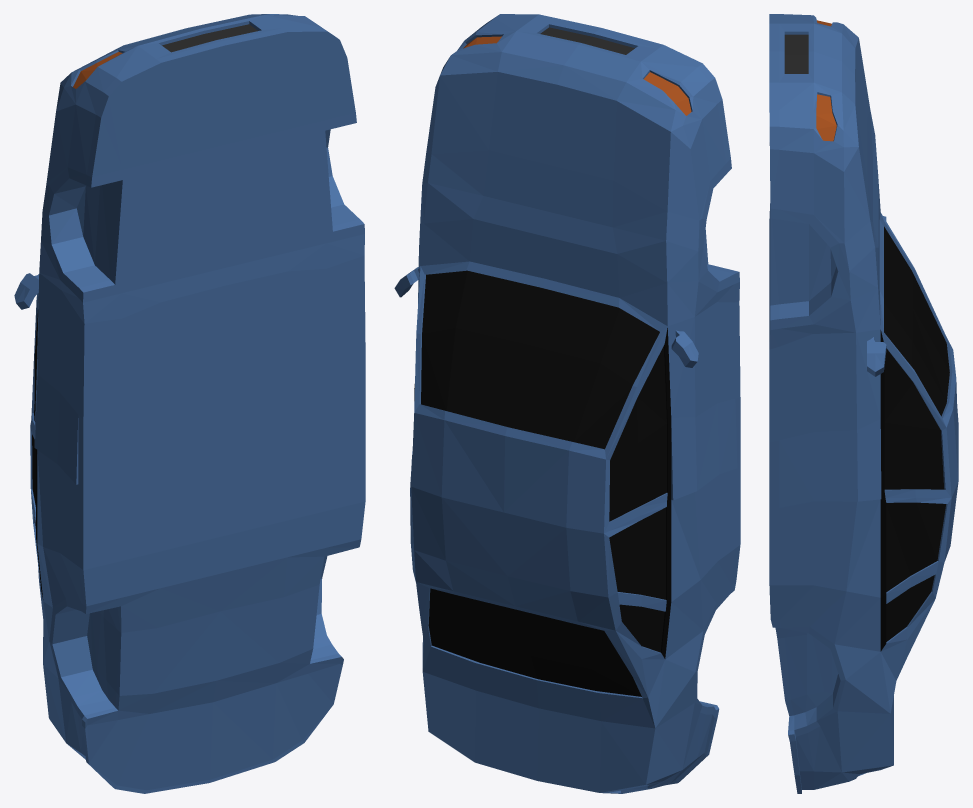
File: NormalCar1_Cube.001.obj
3 views of the same model, side by side, from view 1: azimuth 30°, elevation 25°; view 2: azimuth 150°, elevation 25°; view 3: azimuth 270°, elevation 25° (orthographic). The views are drawn at different scales.
Visible parts, largest first — view 1: NormalCar1_Cube.001; view 2: NormalCar1_Cube.001; view 3: NormalCar1_Cube.001.
Part boxes in pixels (left/top/right/bottom): NormalCar1_Cube.001: left=14, top=14, right=365, bottom=793; NormalCar1_Cube.001: left=394, top=14, right=740, bottom=793; NormalCar1_Cube.001: left=769, top=14, right=958, bottom=793.
Bounding box in the file's own units: 217 × 506 × 121.
